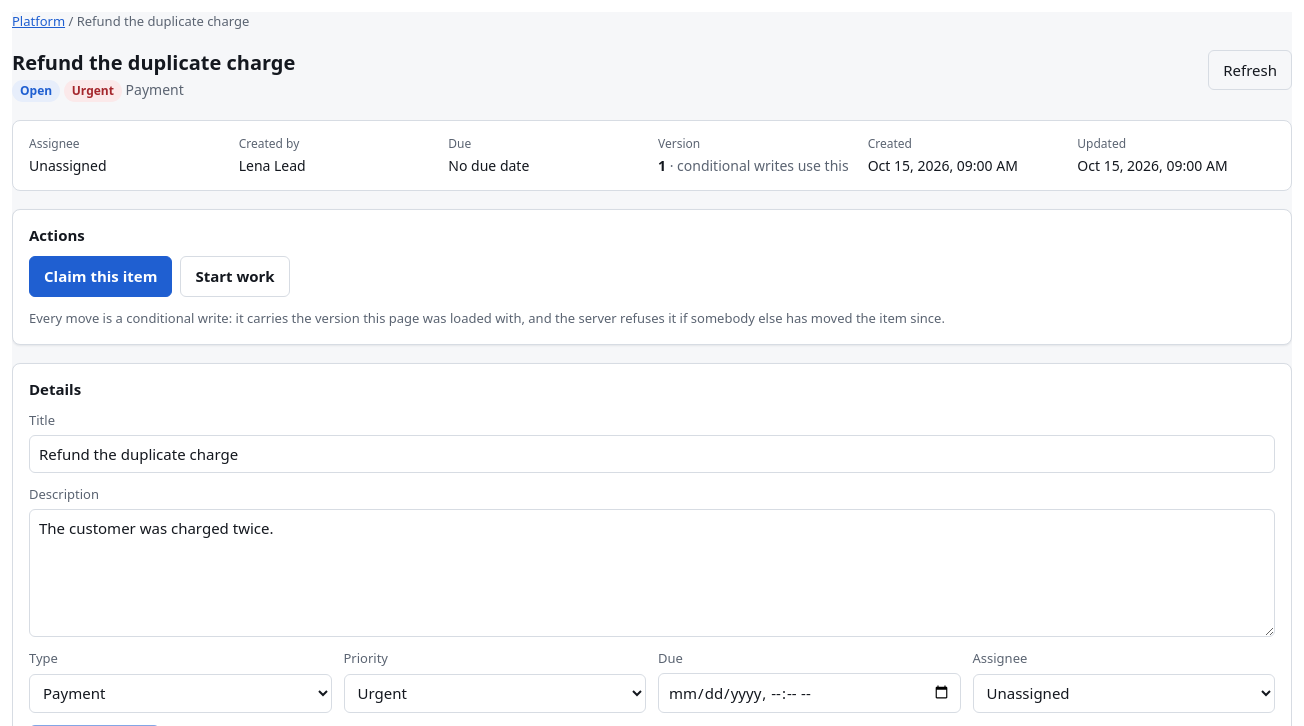
Scenario: ItemDetailPage › confirms a claim from the server and adopts the version it returned
The width and height of the screenshot is (1304, 726).
What coordinates should you click on to do the following:
click the button "Claim this item"
I would click on:
 (101, 277)
Its box is [29, 256, 172, 297].
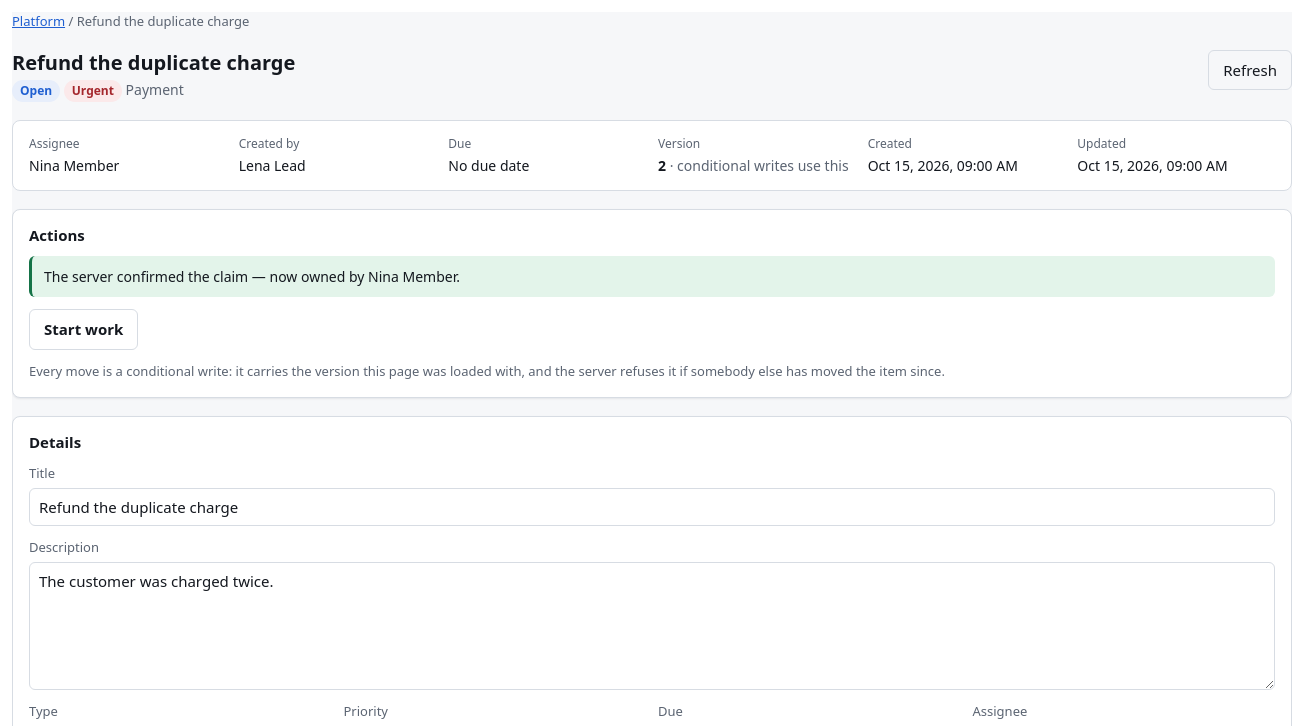
Result: the text "The server confirmed the claim — now owned by Nina Member." is shown at [29, 256, 1275, 297]
Result: the text "2" is shown at [658, 156, 666, 174]
